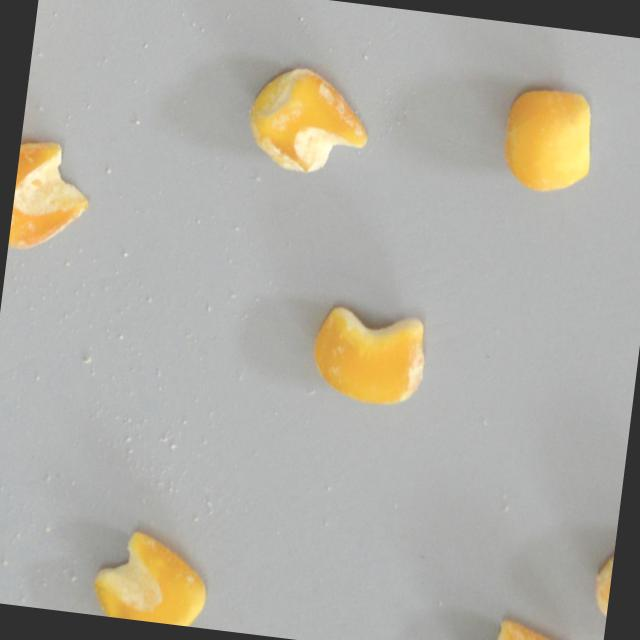no_canjicado: (90, 525, 212, 628), (496, 81, 598, 198)
pelicula: (239, 58, 373, 183), (306, 303, 429, 411), (6, 137, 96, 258), (587, 524, 617, 640), (486, 616, 599, 640)
